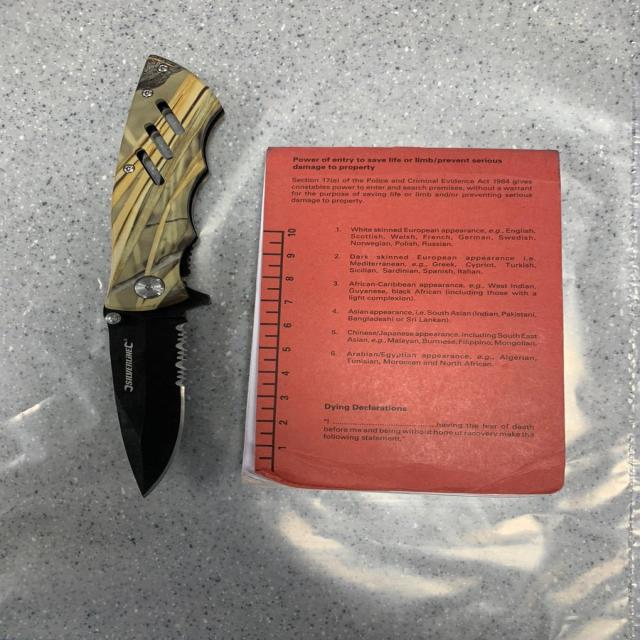Sharp-Object: (108, 51, 225, 496)
